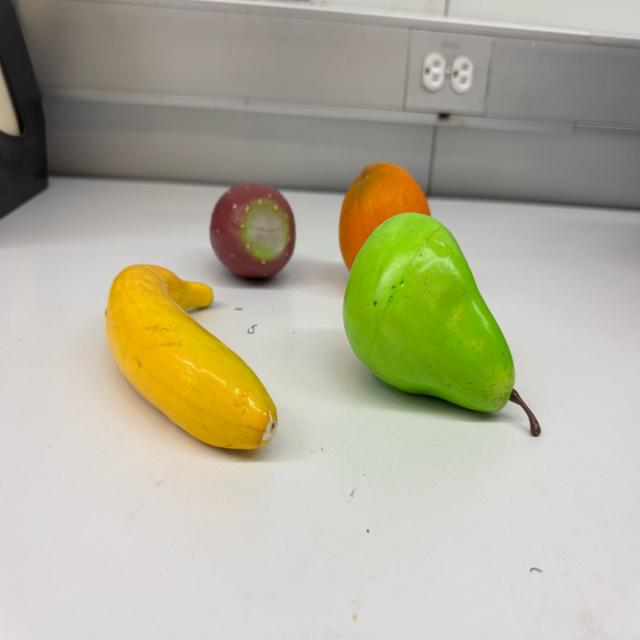banana: (104, 263, 280, 451)
orange: (338, 160, 429, 274)
pear: (342, 213, 542, 437)
tuna: (209, 182, 296, 280)
